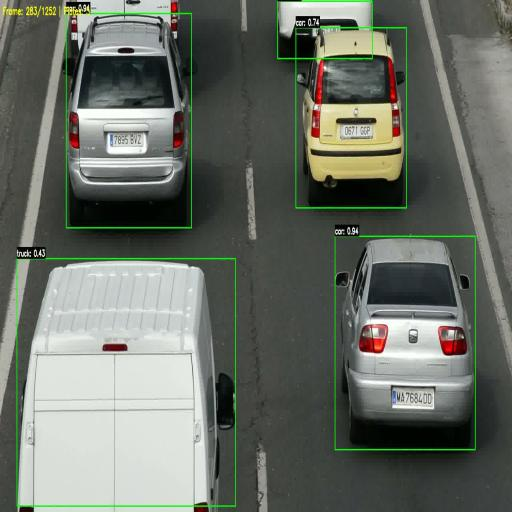license-plate: (391, 386, 434, 409), (340, 122, 373, 139), (110, 132, 143, 147)
